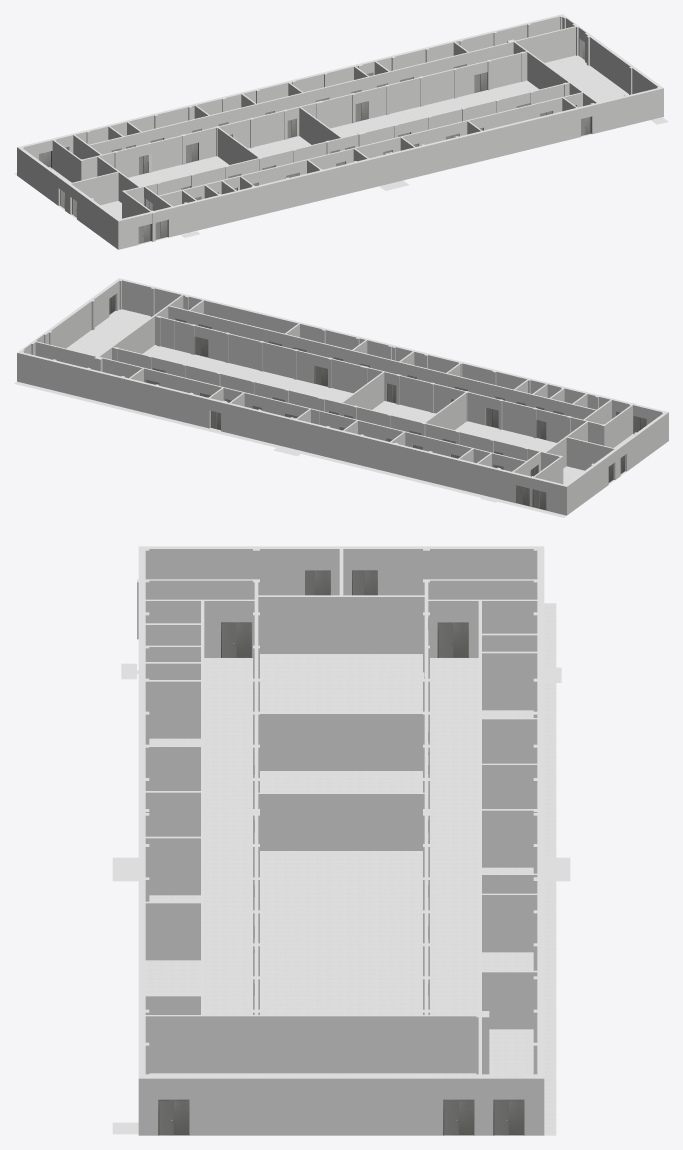
Rendered from Room9C.FBX.
The picture shows the model from 3 angles, top to bottom: view 1: azimuth 30°, elevation 25°; view 2: azimuth 150°, elevation 25°; view 3: azimuth 270°, elevation 25°; orthographic projection. The views are drawn at different scales.
Parts seen in each view (by area): view 1: Room9; view 2: Room9; view 3: Room9.
Boxes of the visible parts, <box> form: Room9: <box>14,14,668,249</box>; Room9: <box>14,278,668,517</box>; Room9: <box>112,546,570,1135</box>.
Size of the model in its own units: 72.4 by 3.62 by 26.29.
